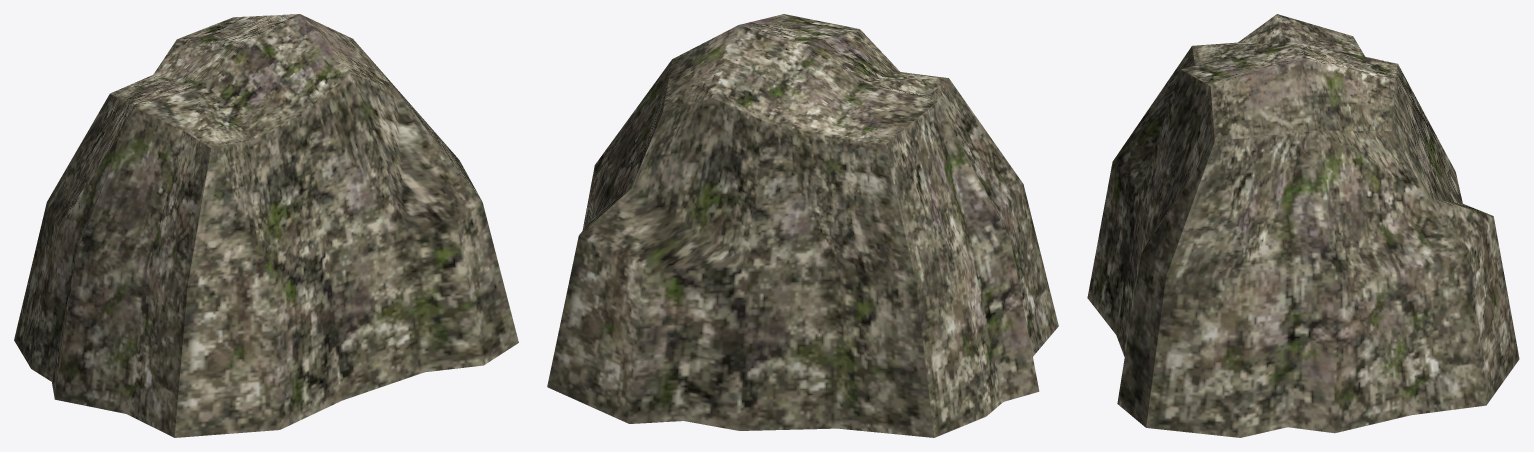
Rendered from OZ_05_hd_rock02A.glb.
3 renders of one model, left to right at view 1: azimuth 30°, elevation 25°; view 2: azimuth 150°, elevation 25°; view 3: azimuth 270°, elevation 25°, orthographic. The views are drawn at different scales.
Parts seen in each view (by area): view 1: OM_05_hd_rock02A; view 2: OM_05_hd_rock02A; view 3: OM_05_hd_rock02A.
Part boxes in pixels (x1,y1,x2,y2): OM_05_hd_rock02A: (14, 14, 518, 437); OM_05_hd_rock02A: (547, 14, 1058, 437); OM_05_hd_rock02A: (1087, 14, 1519, 437).
Bounding box in the file's own units: 3.2 × 2.18 × 2.83.
Materials: 1 (1 with a texture image).
